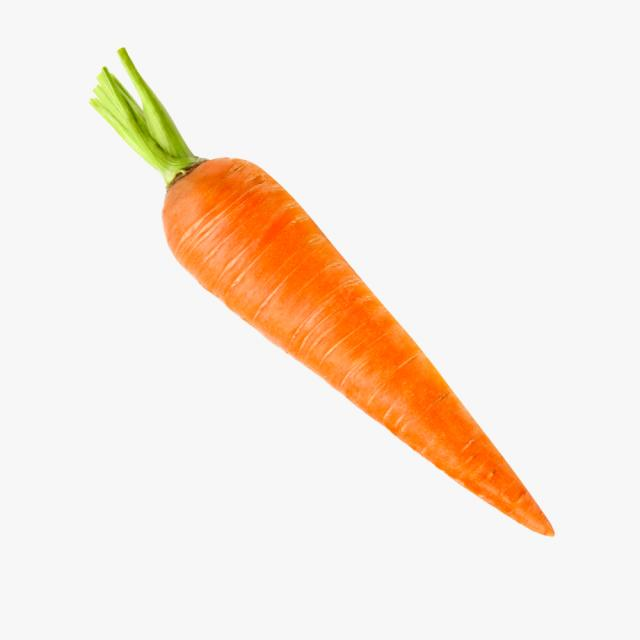Carrot: (92, 48, 552, 536)
